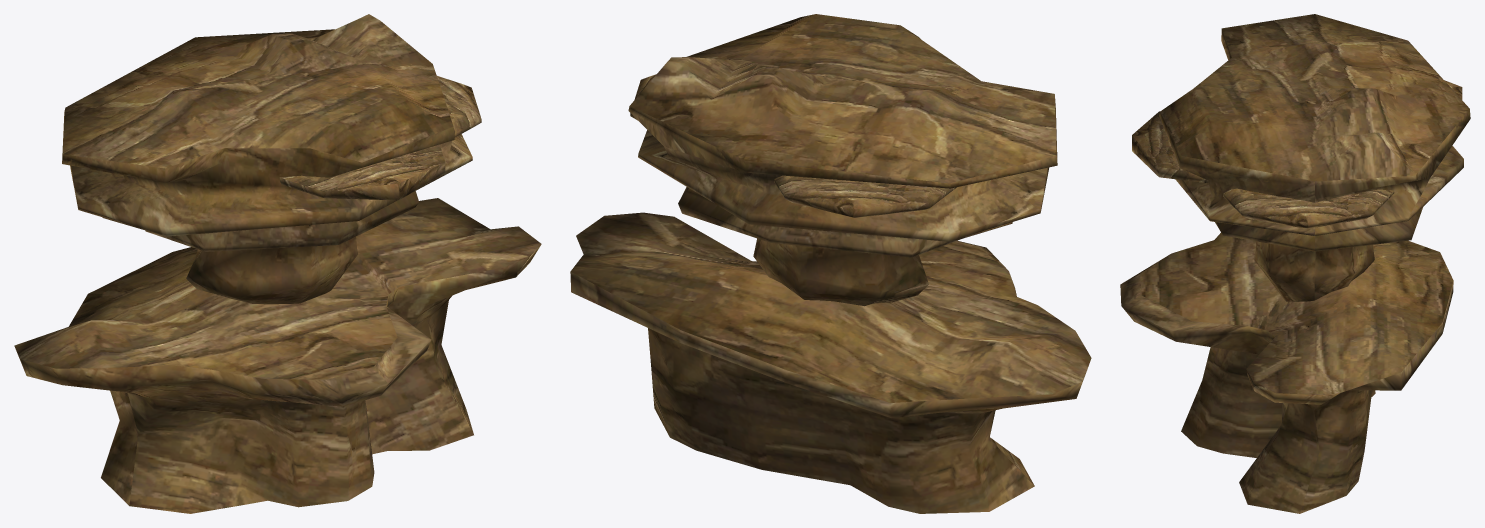
File: environment_stone_shanya_002_a03.FBX
The picture shows the model from 3 angles, left to right: view 1: azimuth 30°, elevation 25°; view 2: azimuth 150°, elevation 25°; view 3: azimuth 270°, elevation 25°; orthographic projection. The views are drawn at different scales.
Visible parts, largest first — view 1: environment_stone_shanya_002_a03; view 2: environment_stone_shanya_002_a03; view 3: environment_stone_shanya_002_a03.
Boxes of the visible parts, x1,y1,x2,y2 form: environment_stone_shanya_002_a03: (14,14,541,513); environment_stone_shanya_002_a03: (570,14,1091,513); environment_stone_shanya_002_a03: (1120,14,1470,513).
Bounding box in the file's own units: 983 × 733 × 652.
